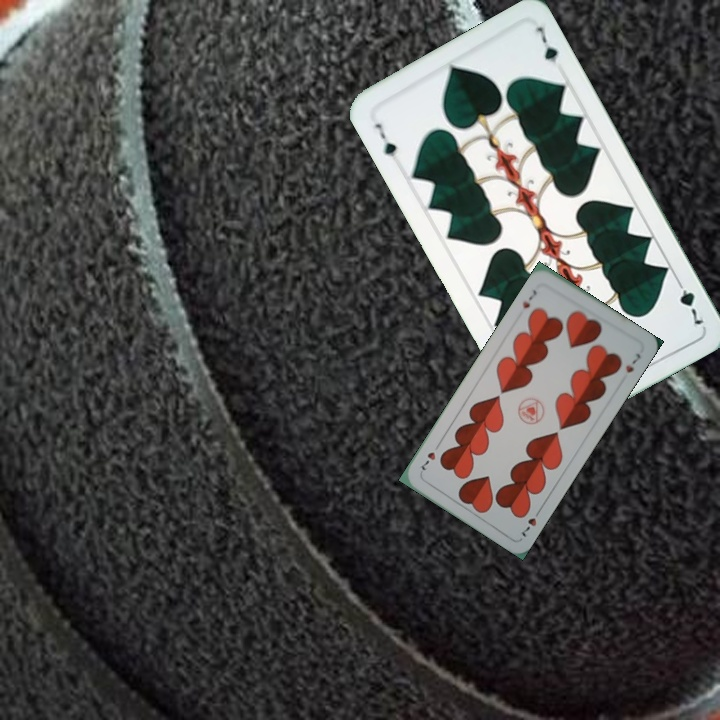G7: (671, 274, 706, 328), (370, 119, 400, 167)
H7: (516, 504, 544, 540), (518, 286, 540, 311)
